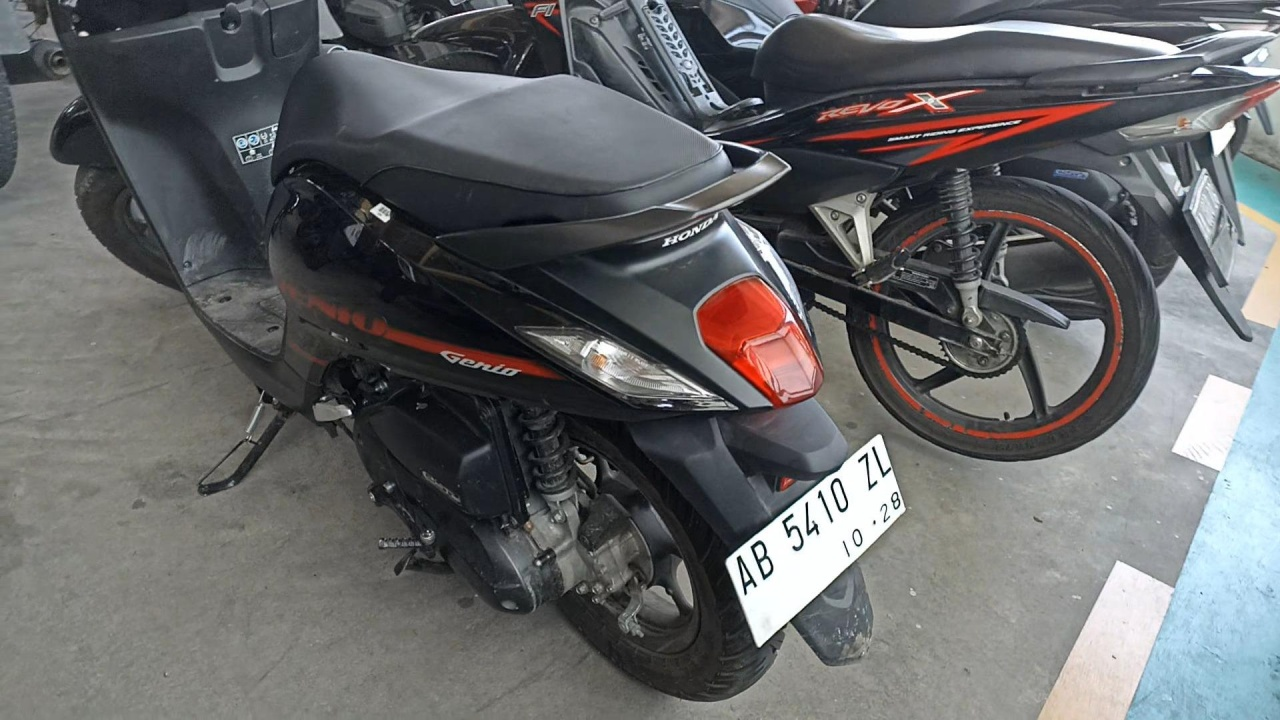plate: (727, 433, 907, 648)
